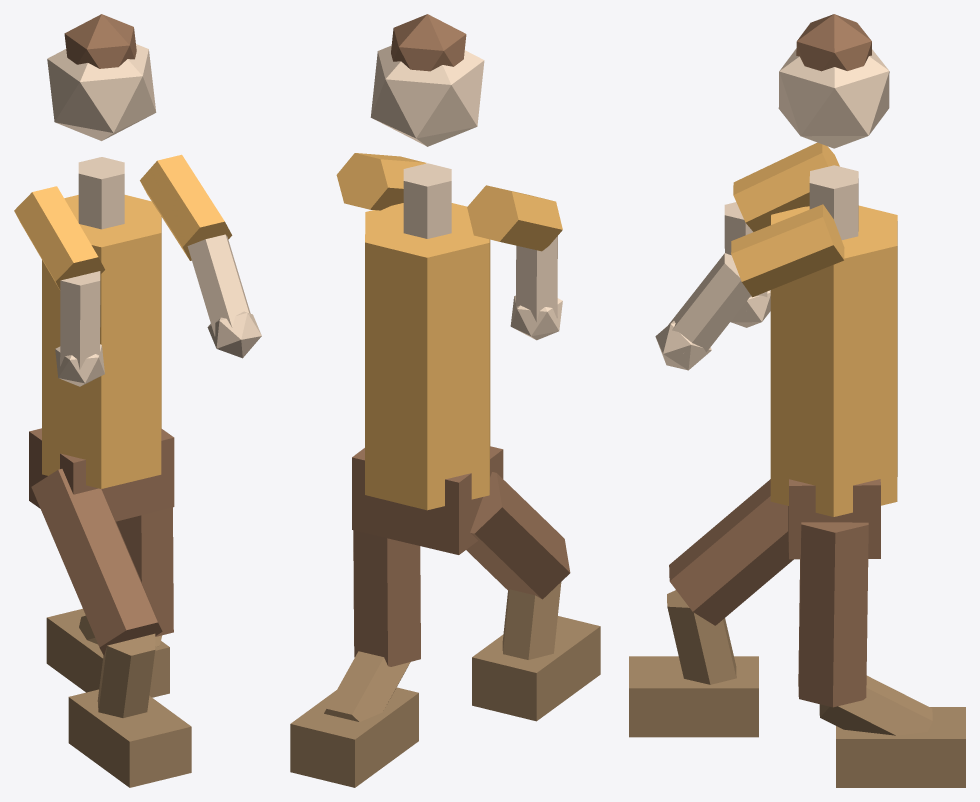
The model's file is pose_walk_09.glb.
3 renders of one model, left to right at view 1: azimuth 30°, elevation 25°; view 2: azimuth 150°, elevation 25°; view 3: azimuth 270°, elevation 25°, orthographic. The views are drawn at different scales.
Visible parts, largest first — view 1: pose; view 2: pose; view 3: pose.
Boxes of the visible parts, x1=… form: pose: x1=14, y1=14, x2=261, y2=787; pose: x1=290, y1=14, x2=600, y2=787; pose: x1=629, y1=14, x2=965, y2=787.
Bounding box in the file's own units: 0.3964 × 1.51 × 0.623.
